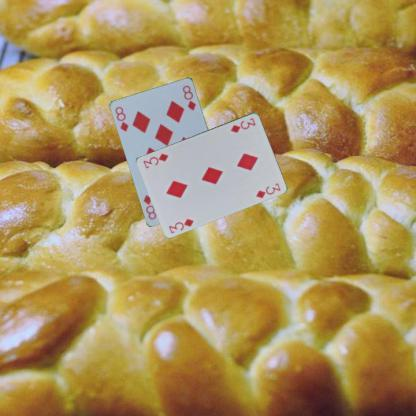3d: (228, 115, 257, 134), (166, 216, 195, 234)
8d: (113, 104, 130, 133)
